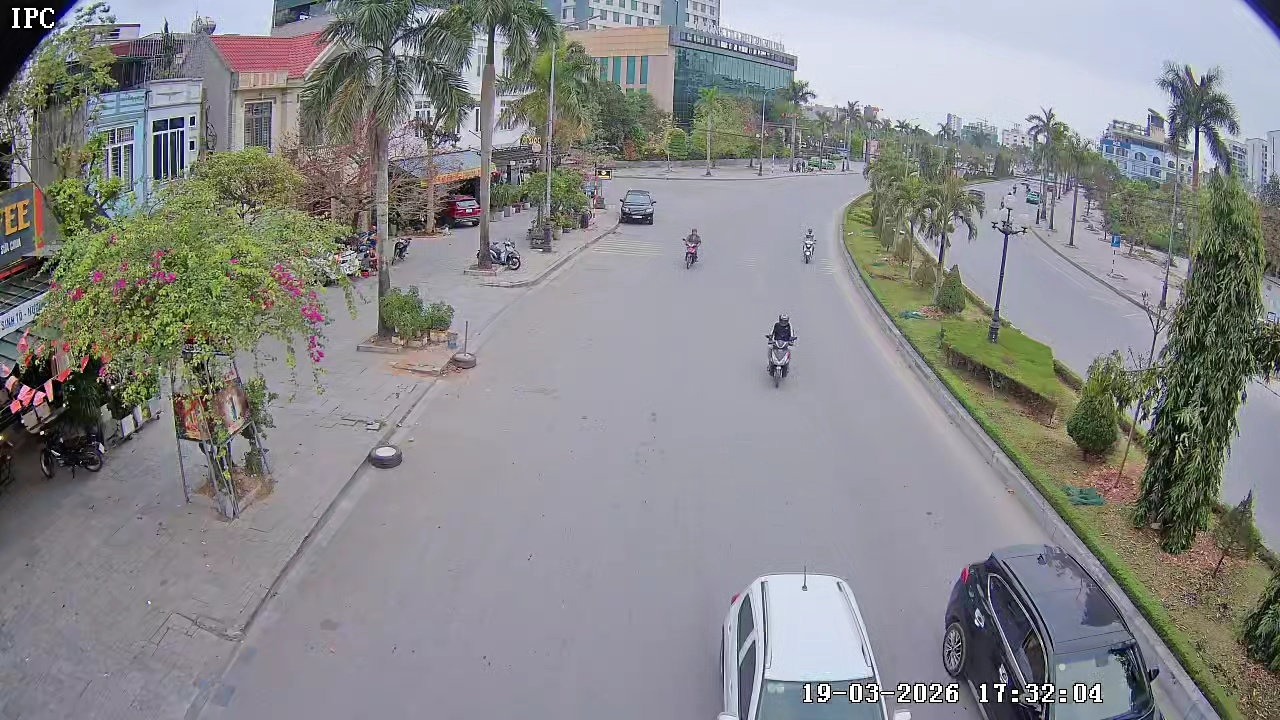car: (938, 541, 1176, 719), (714, 570, 892, 719), (618, 186, 657, 225)
motorbike: (763, 312, 800, 388), (681, 225, 703, 270), (799, 224, 818, 264)
